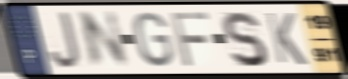F: (168, 10, 212, 69)
G: (132, 11, 176, 69)
J: (47, 9, 82, 70)
K: (263, 10, 310, 67)
N: (77, 9, 132, 71)
S: (220, 9, 269, 69)
